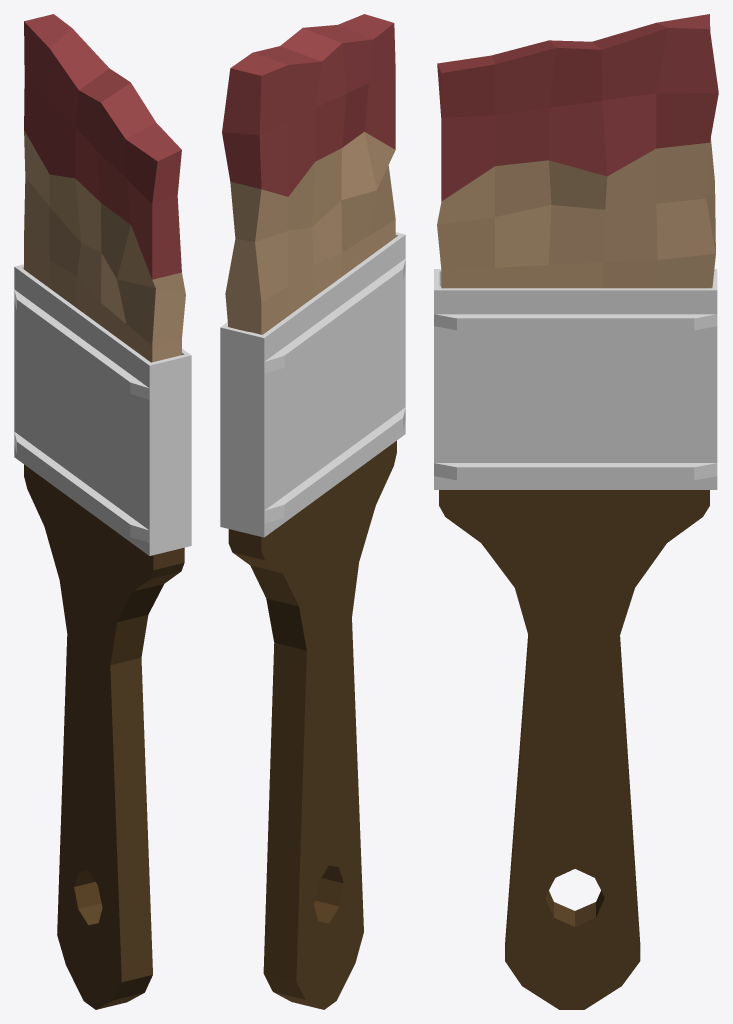
Rendered from brush.glb.
The picture shows the model from 3 angles, left to right: view 1: azimuth 30°, elevation 25°; view 2: azimuth 150°, elevation 25°; view 3: azimuth 270°, elevation 25°; orthographic projection. The views are drawn at different scales.
Parts seen in each view (by area): view 1: brush; view 2: brush; view 3: brush.
Boxes of the visible parts, x1,y1,x2,y2 form: brush: (14,14,191,1009); brush: (220,14,405,1009); brush: (434,14,718,1009).
Size of the model in its own units: 0.8617 by 13.11 by 3.45.
